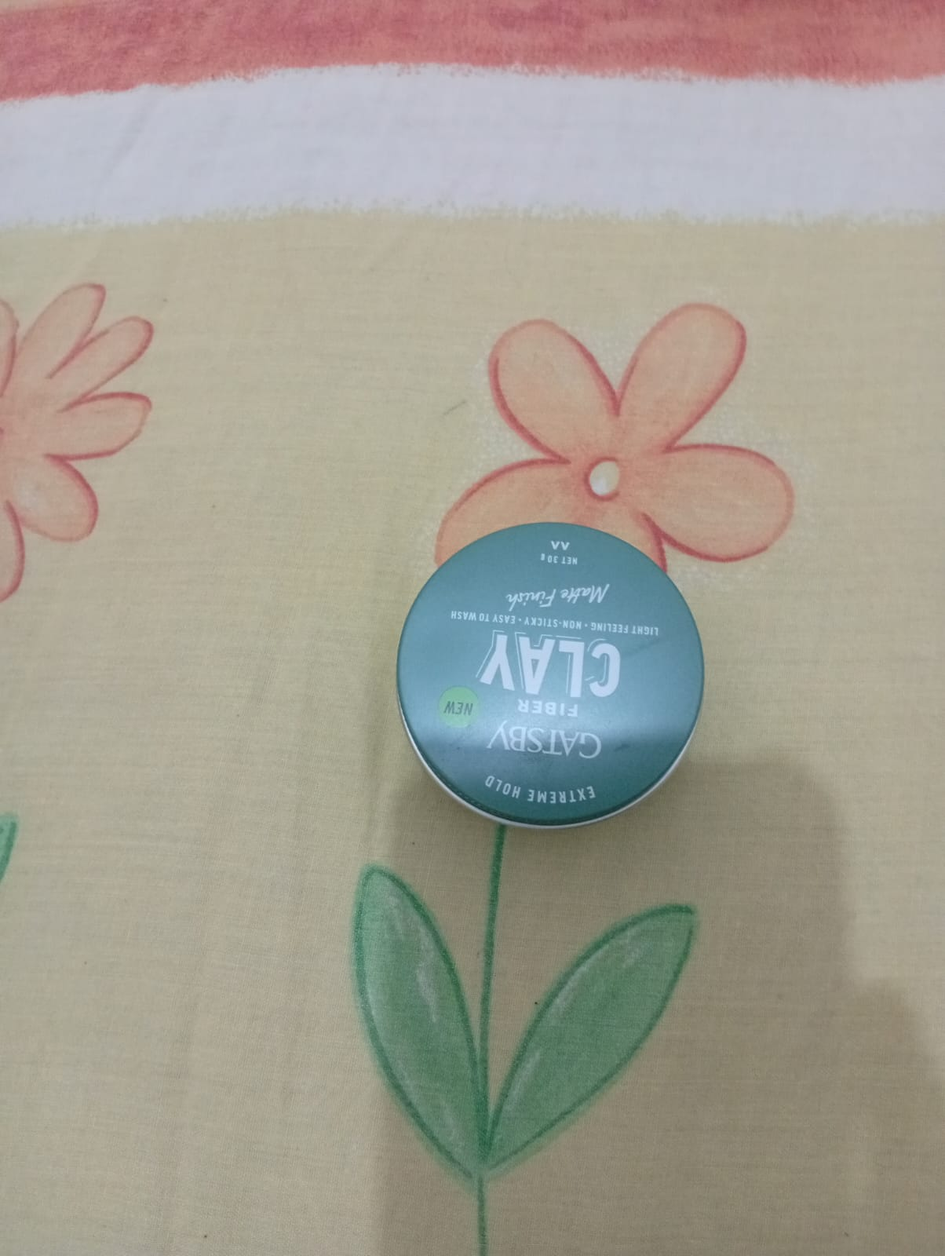Minyak_Rambut: (358, 511, 717, 857)
